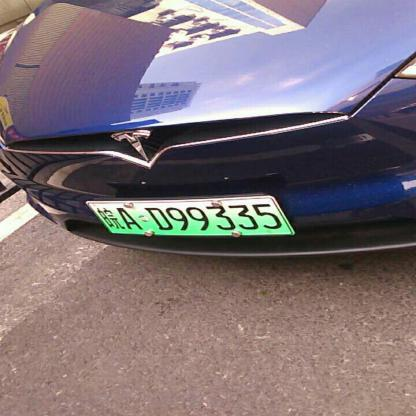lp: (86, 195, 294, 233)
